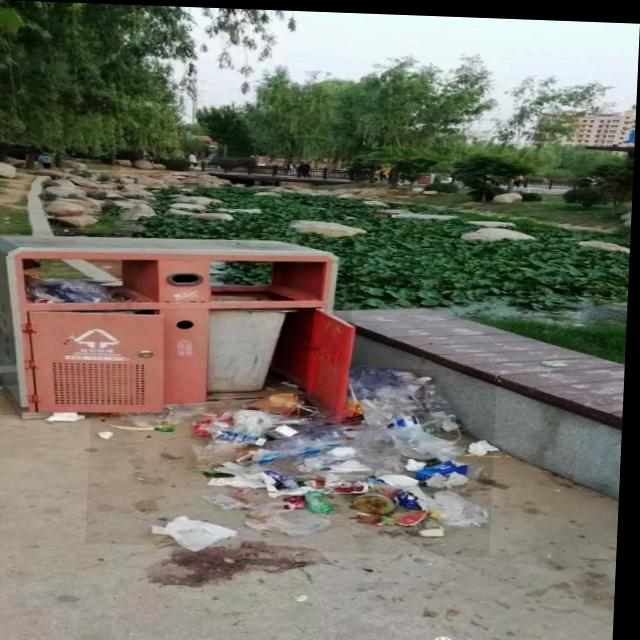garbage: (90, 356, 501, 554)
overflow: (0, 229, 357, 424)
